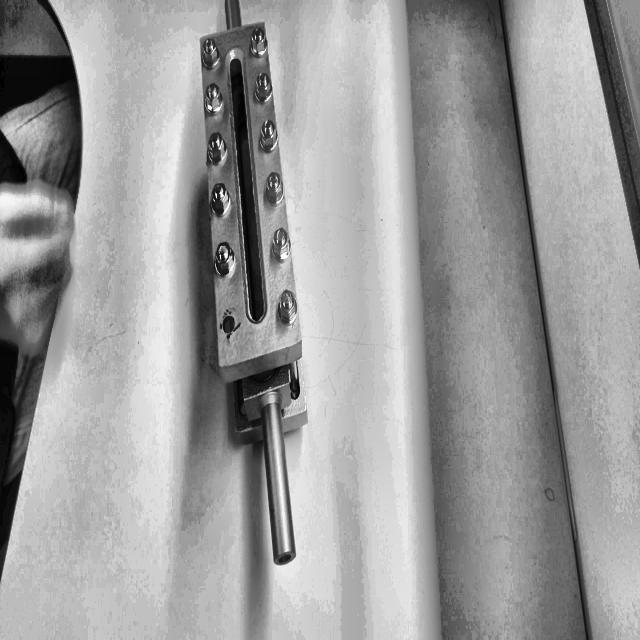ShuiWeiQi_11: (164, 11, 357, 558)
